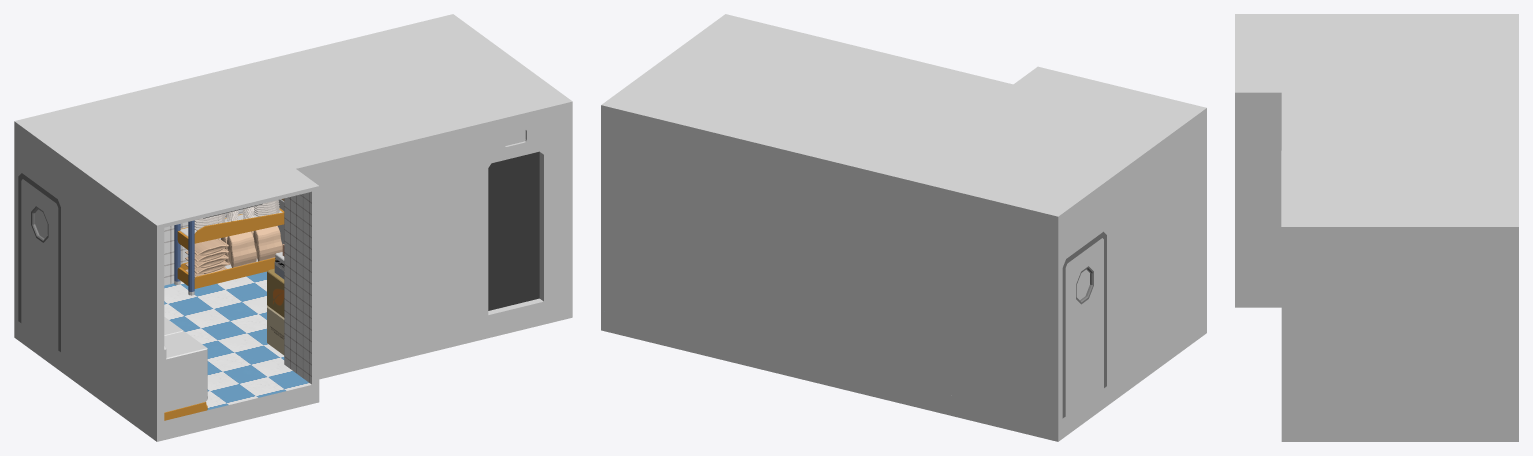
File: 1111 kicken.fbx
3 renders of one model, left to right at view 1: azimuth 30°, elevation 25°; view 2: azimuth 150°, elevation 25°; view 3: azimuth 270°, elevation 25°, orthographic. The views are drawn at different scales.
Visible parts, largest first — view 1: 천장, 냉동창고 벽, Cube.001, 바닥, 냉동창고문, 주방문, 토마토조리대 04, 빵선반난간, 밀가루포대 1, 빵구간상자, 주방문 틀, 밀가루포대 2 (+1 smaller); view 2: Cube.001, 천장, 바닥, 주방문, 주방문 틀; view 3: 천장, Cube.001, 냉동창고 벽, 바닥.
Boxes of the visible parts, x1,y1,x2,y2 form: 천장: (14, 14, 572, 229); 냉동창고 벽: (284, 110, 554, 384); Cube.001: (14, 105, 572, 422); 바닥: (14, 271, 572, 441); 냉동창고문: (488, 151, 539, 310); 주방문: (21, 179, 58, 349); 토마토조리대 04: (164, 331, 207, 420); 빵선반난간: (177, 208, 284, 288); 밀가루포대 1: (221, 226, 282, 267); 빵구간상자: (267, 244, 284, 355); 주방문 틀: (18, 173, 60, 351); 밀가루포대 2: (185, 238, 228, 277); Cube.001: (601, 109, 1206, 421); 천장: (601, 14, 1206, 220); 바닥: (601, 310, 1206, 441); 주방문: (1065, 238, 1103, 415); 주방문 틀: (1062, 231, 1106, 418); 천장: (1235, 14, 1518, 230); Cube.001: (1281, 230, 1518, 422); 냉동창고 벽: (1235, 96, 1281, 288); 바닥: (1235, 288, 1518, 441).
Bounding box in the file's own units: 595 × 280 × 335.
